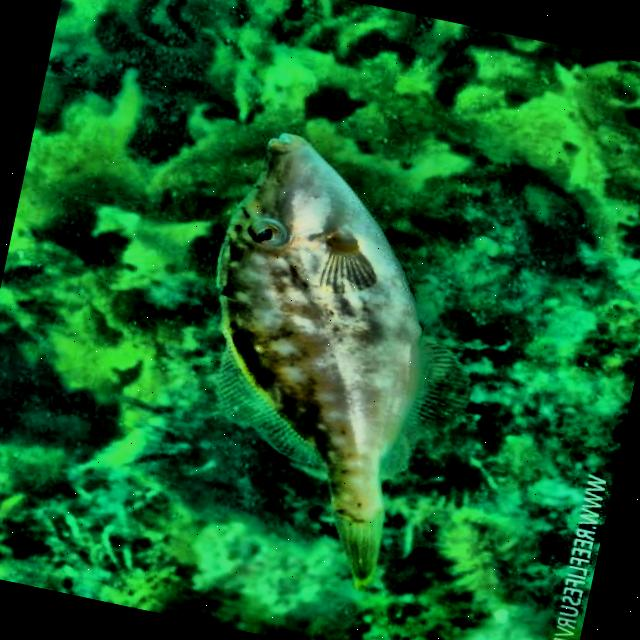fish: (154, 122, 516, 604)
